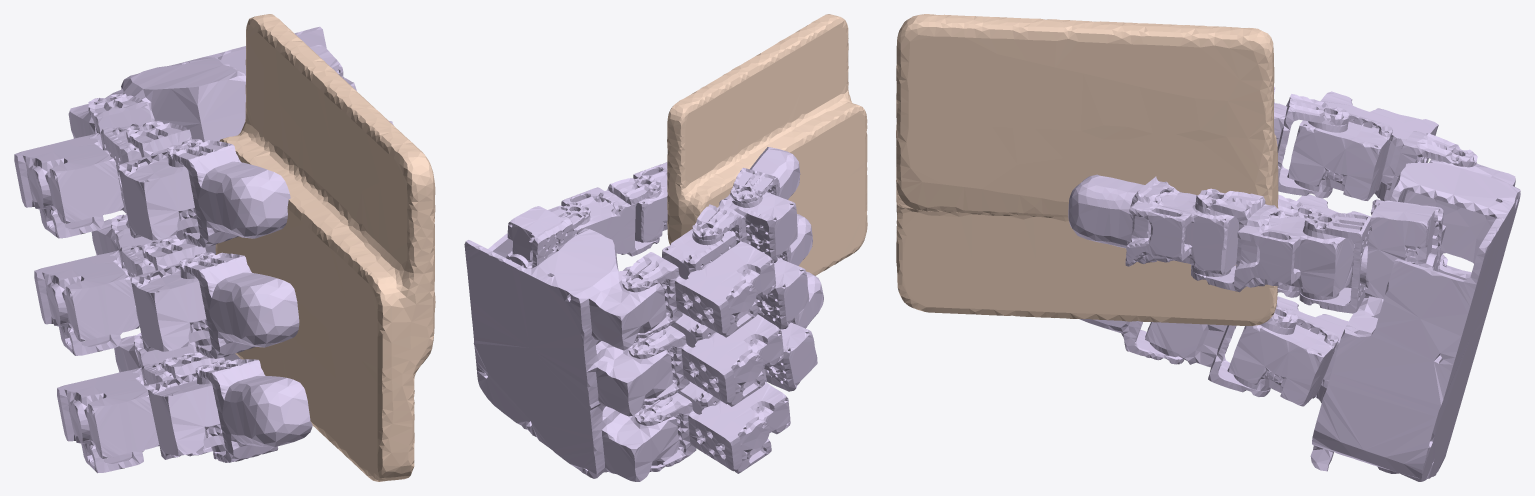
3 views of the same model, side by side, from view 1: azimuth 30°, elevation 25°; view 2: azimuth 150°, elevation 25°; view 3: azimuth 270°, elevation 25° (orthographic). The views are drawn at different scales.
Parts seen in each view (by area): view 1: LEAP_hand, world; view 2: LEAP_hand, world; view 3: world, LEAP_hand.
Boxes of the visible parts, bbox=[...] form: LEAP_hand: bbox=[14, 26, 393, 473]; world: bbox=[215, 14, 435, 481]; LEAP_hand: bbox=[464, 147, 823, 481]; world: bbox=[667, 14, 867, 275]; world: bbox=[896, 14, 1278, 325]; LEAP_hand: bbox=[1068, 87, 1520, 481].
Size of the model in its own units: 0.1549 by 0.1874 by 0.2485.
